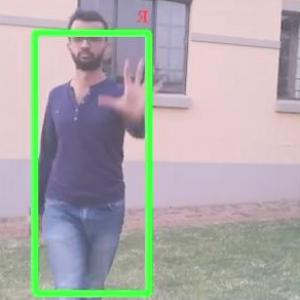follow_hand: (96, 57, 158, 119)
